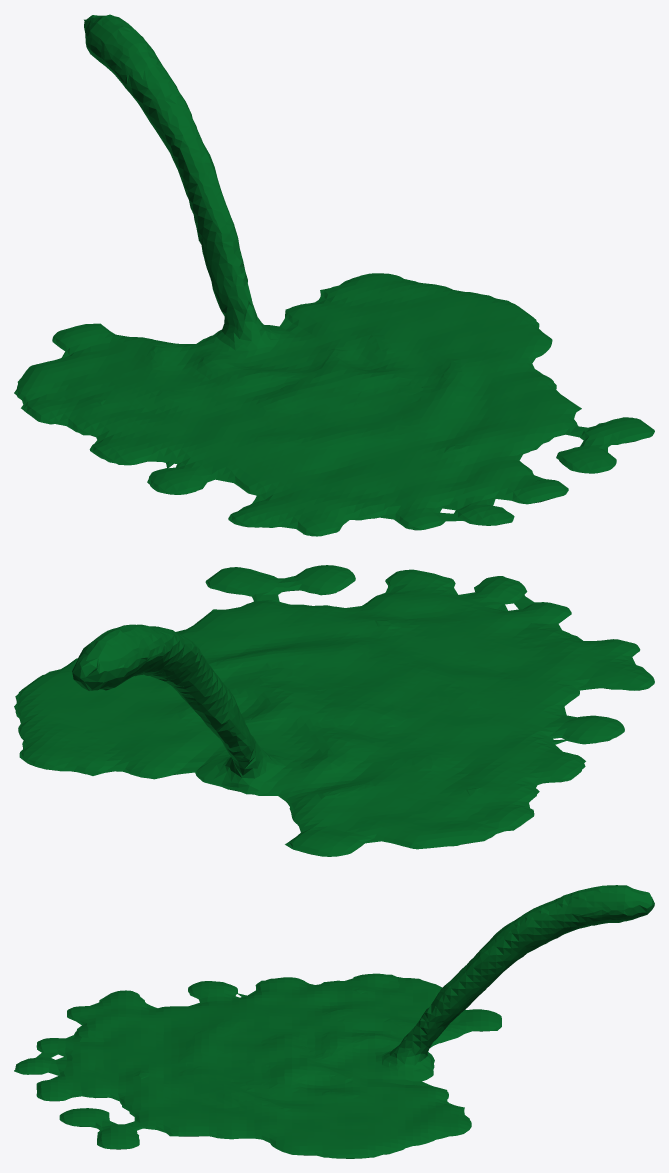
File: fluid_13.fbx
3 renders of one model, top to bottom at view 1: azimuth 30°, elevation 25°; view 2: azimuth 150°, elevation 25°; view 3: azimuth 270°, elevation 25°, orthographic. The views are drawn at different scales.
Parts seen in each view (by area): view 1: Cube; view 2: Cube; view 3: Cube.
Boxes of the visible parts, left/top/right/bottom form: Cube: left=14, top=14, right=654, bottom=536; Cube: left=14, top=565, right=654, bottom=856; Cube: left=14, top=885, right=654, bottom=1158.
Size of the model in its own units: 378 by 176 by 557.
